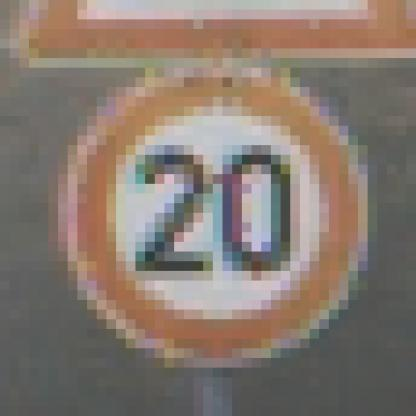Speed Limit 20: (81, 69, 368, 357)
